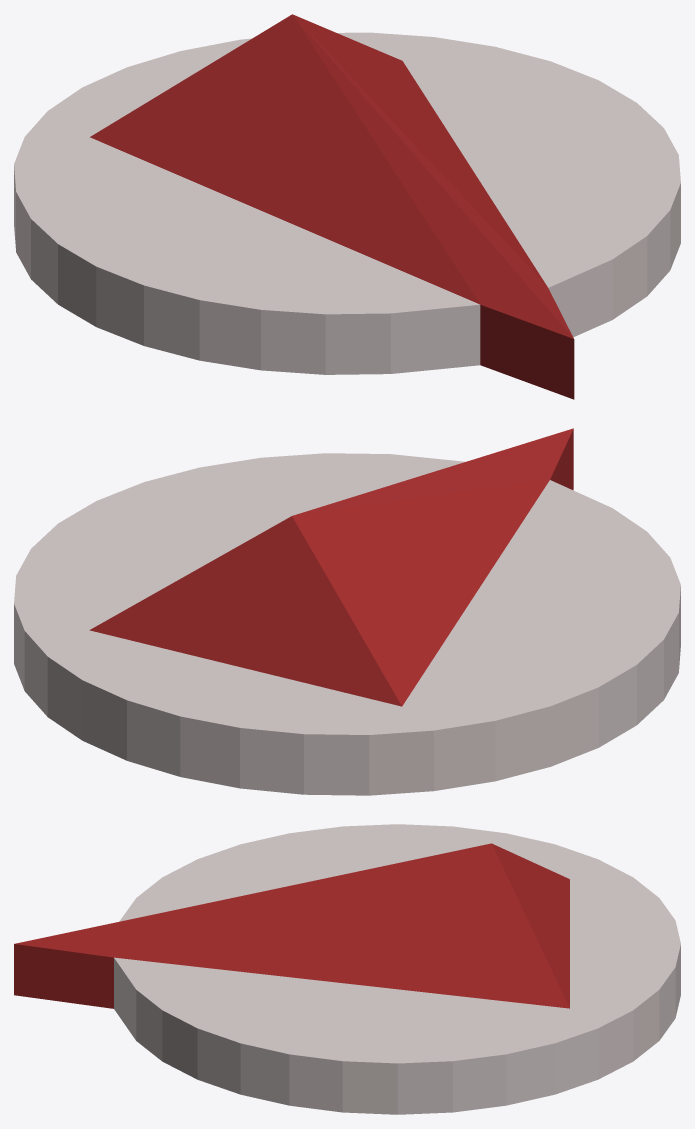
The model's file is compass.glb.
3 views of the same model, one above another, from view 1: azimuth 30°, elevation 25°; view 2: azimuth 150°, elevation 25°; view 3: azimuth 270°, elevation 25° (orthographic). The views are drawn at different scales.
Parts seen in each view (by area): view 1: Cylinder; view 2: Cylinder; view 3: Cylinder.
Part boxes in pixels (x1=…): Cylinder: x1=14, y1=14, x2=680, y2=399; Cylinder: x1=14, y1=428, x2=680, y2=795; Cylinder: x1=14, y1=824, x2=680, y2=1114.
Bounding box in the file's own units: 2 × 0.5917 × 2.36.
